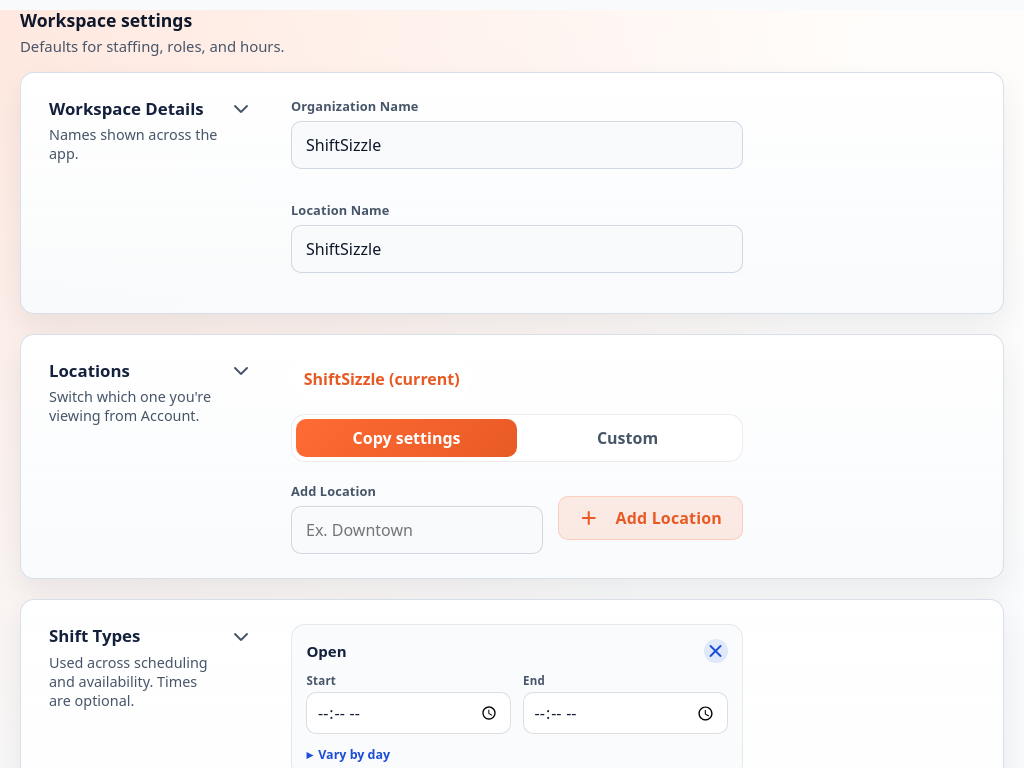
Scenario: Settings view › requires a name before adding a location, and clears the error once fixed
The image size is (1024, 768).
Click the button "Add Location".
click(650, 518)  # box [558,496,743,540]
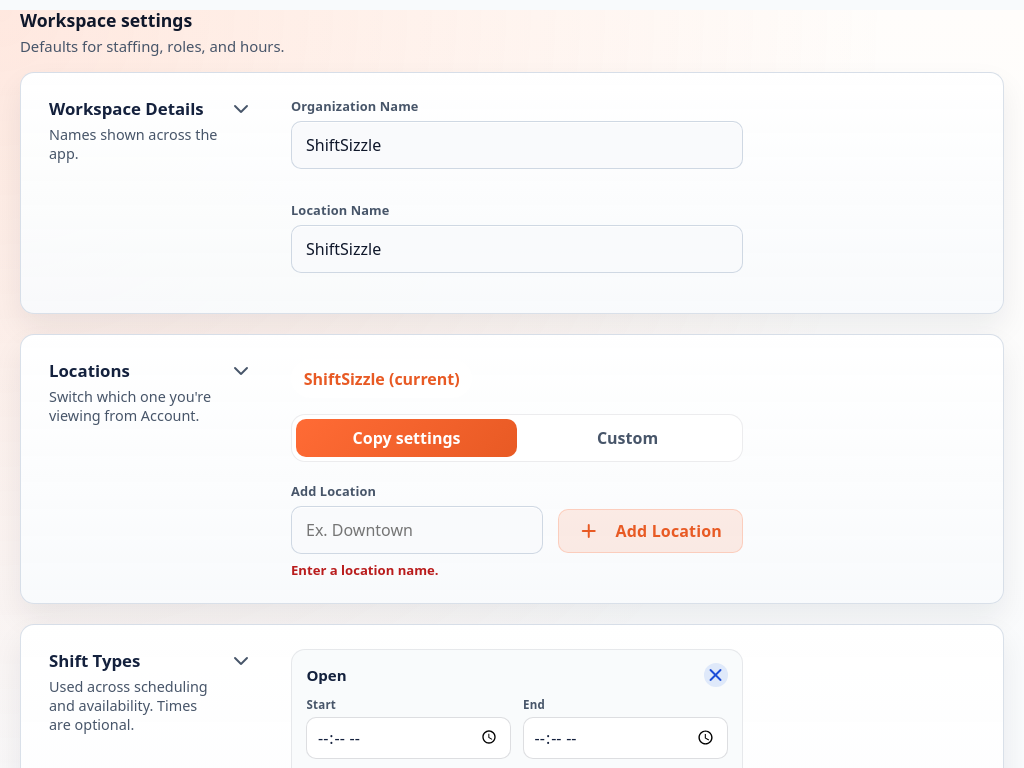
Check: the message reads "Enter a location name.", box [291,561,439,579]
Type "Downtown" into the field labelled "Add Location".
click(417, 530); type("Downtown")  # box [291,506,543,554]
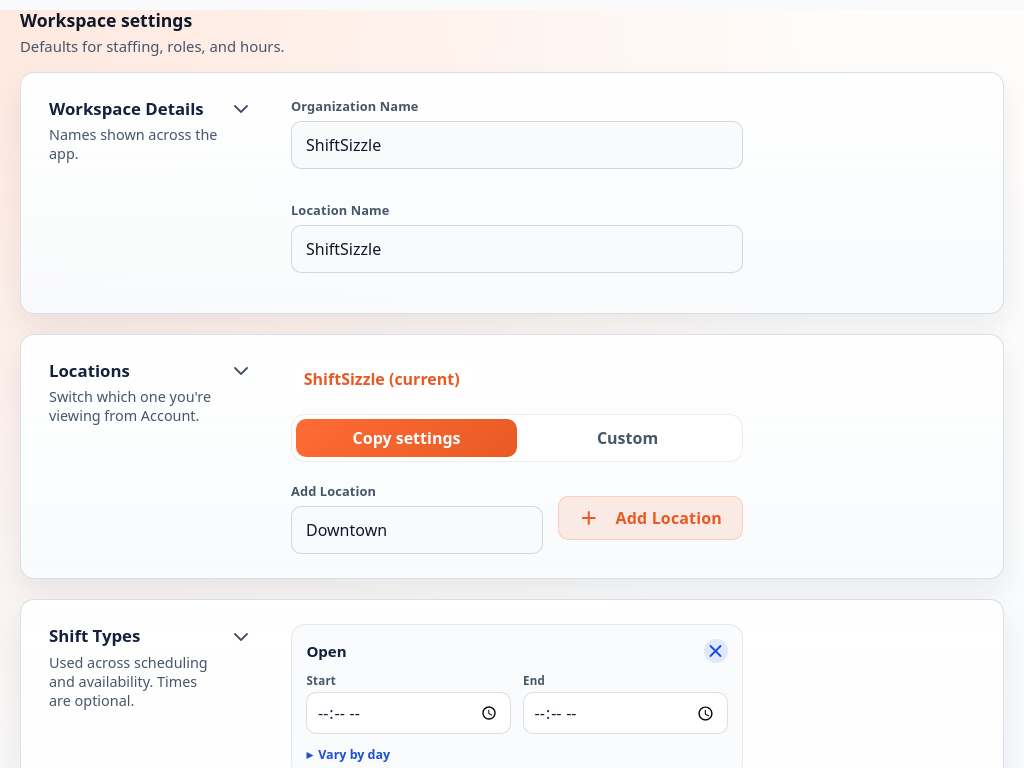
Check: the message "Enter a location name." is gone
Click the button "Add Location".
click(650, 518)  # box [558,496,743,540]
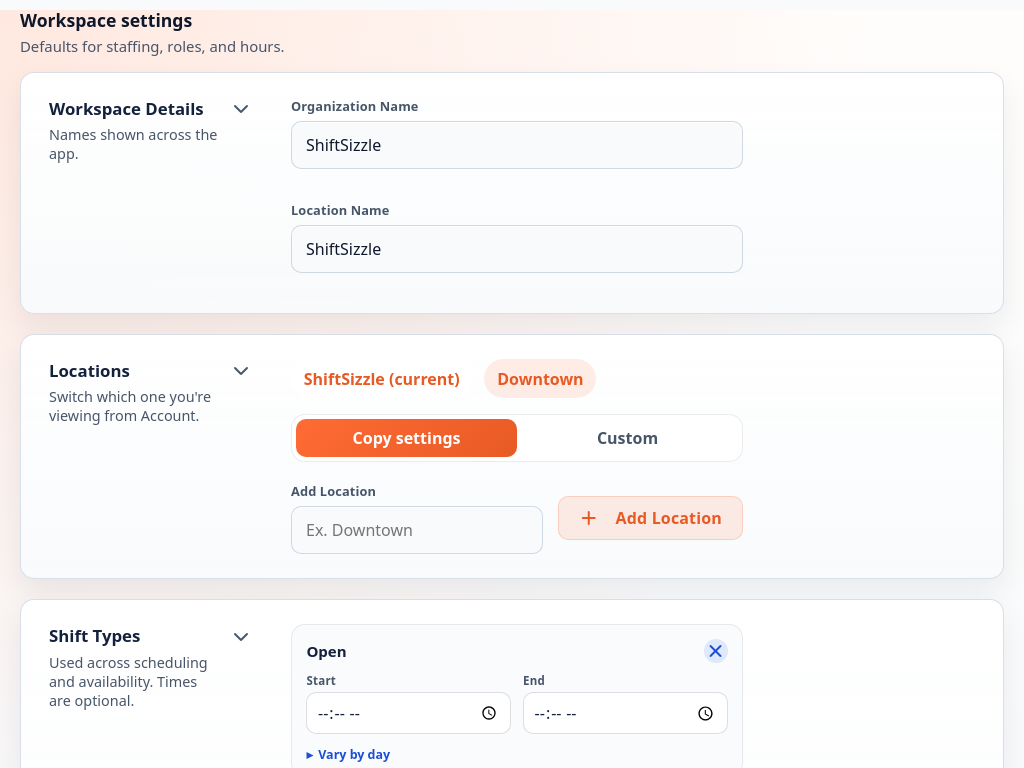
Check: the message "Enter a location name." is not shown
Check: the text "Downtown" is shown, box [484,359,596,398]
